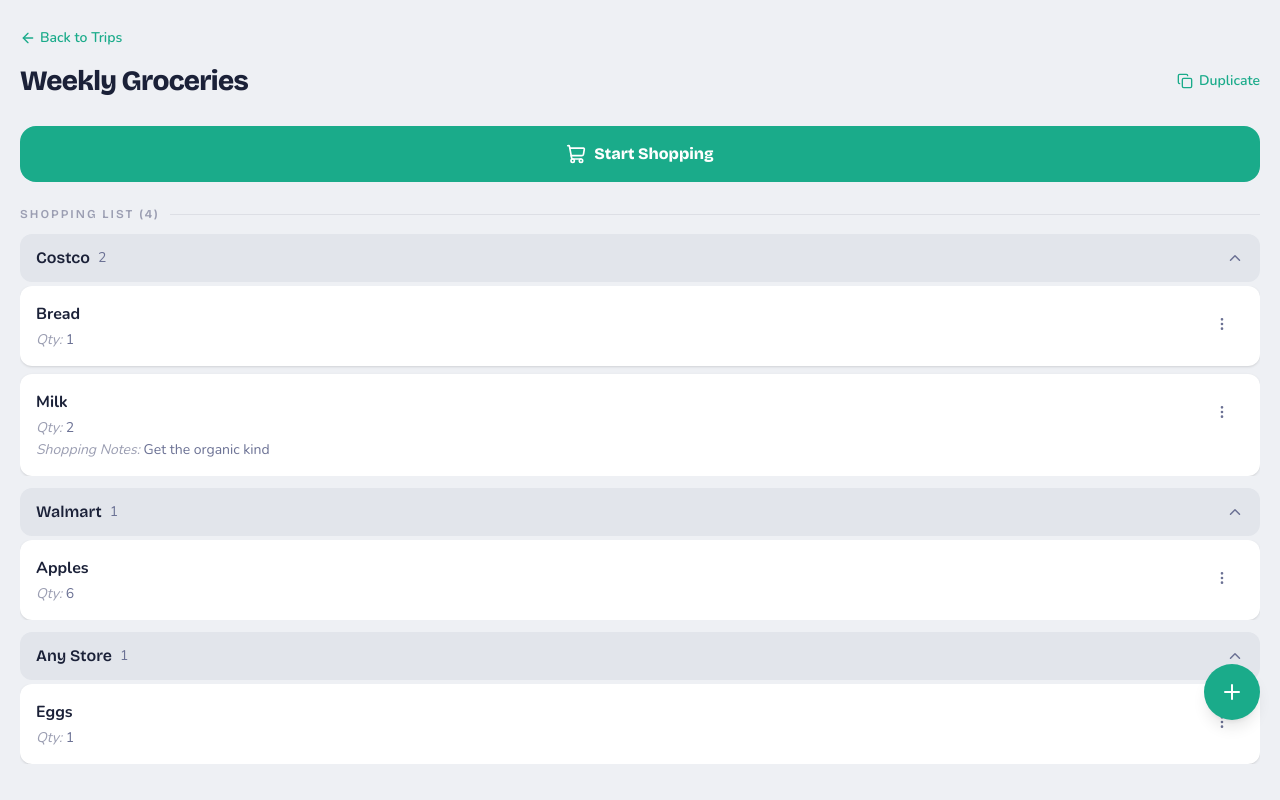
Test case: TripDetailPage › populates store dropdown in edit form
Click the button named "Item actions" in the row of "Bread": (1222, 324) [1200,302,1244,346]
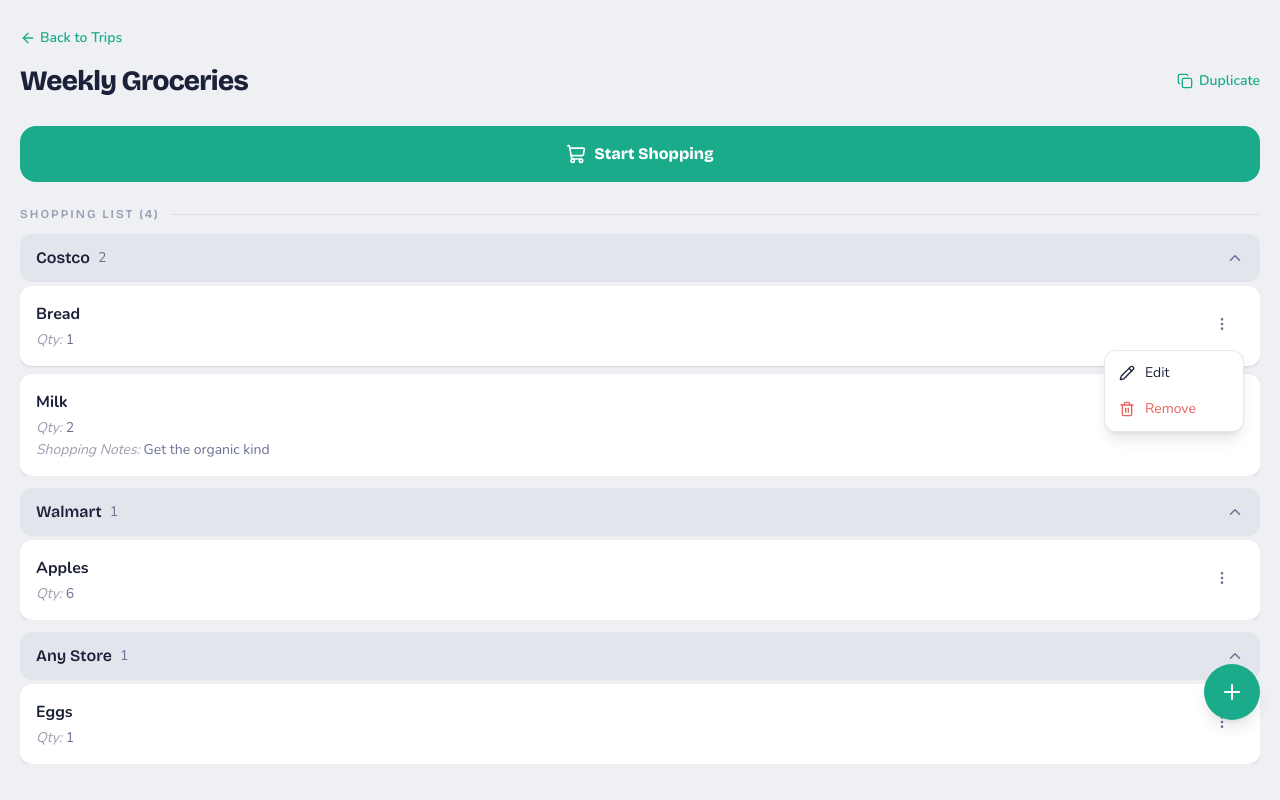
Click the button "Edit": (1174, 373) [1105,355,1243,391]
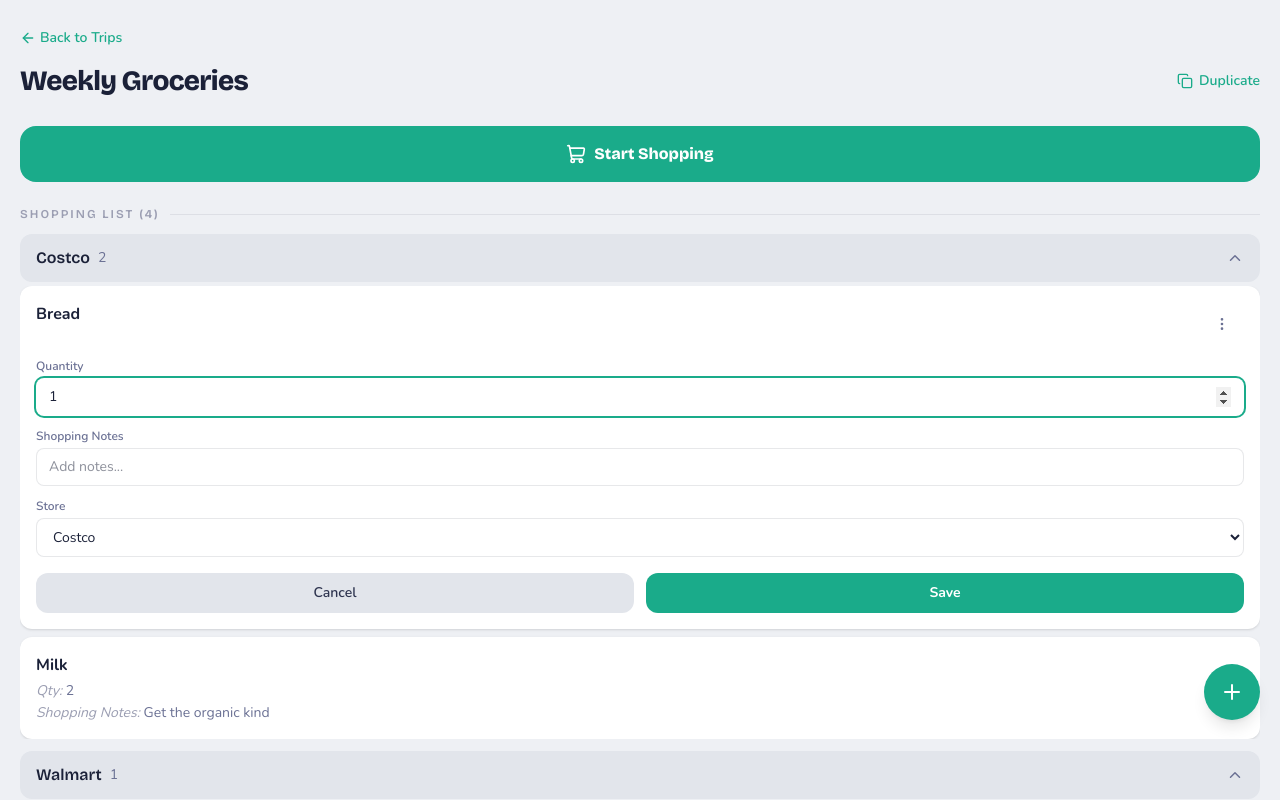
Expected: the dropdown labelled "Store" is shown, [36,518,1244,557]
